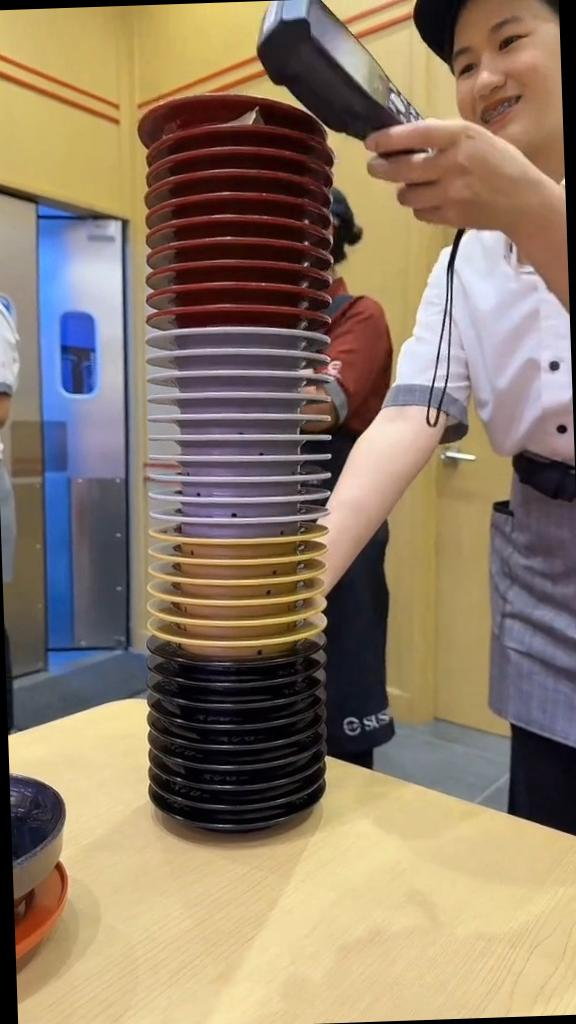Janback: (166, 688, 306, 714), (158, 654, 316, 676), (168, 671, 313, 693), (177, 808, 310, 830), (169, 712, 302, 732), (168, 732, 296, 752), (171, 772, 310, 790), (171, 790, 308, 808), (175, 753, 301, 771)
Jangold: (161, 568, 324, 596), (156, 548, 324, 574), (178, 609, 322, 634), (152, 534, 329, 554), (166, 590, 320, 612), (180, 630, 310, 652)
Janred: (135, 88, 327, 124), (158, 278, 317, 308), (152, 260, 320, 288), (174, 213, 330, 243), (168, 191, 335, 219), (150, 128, 339, 152), (159, 302, 319, 328), (162, 236, 324, 261), (157, 170, 330, 192), (160, 148, 336, 168)
Janwhite: (152, 402, 322, 431), (167, 344, 331, 370), (160, 364, 322, 390), (150, 427, 322, 451), (162, 483, 322, 508), (159, 502, 315, 526), (164, 326, 318, 350), (159, 387, 327, 408), (164, 450, 324, 470), (166, 468, 324, 484)
